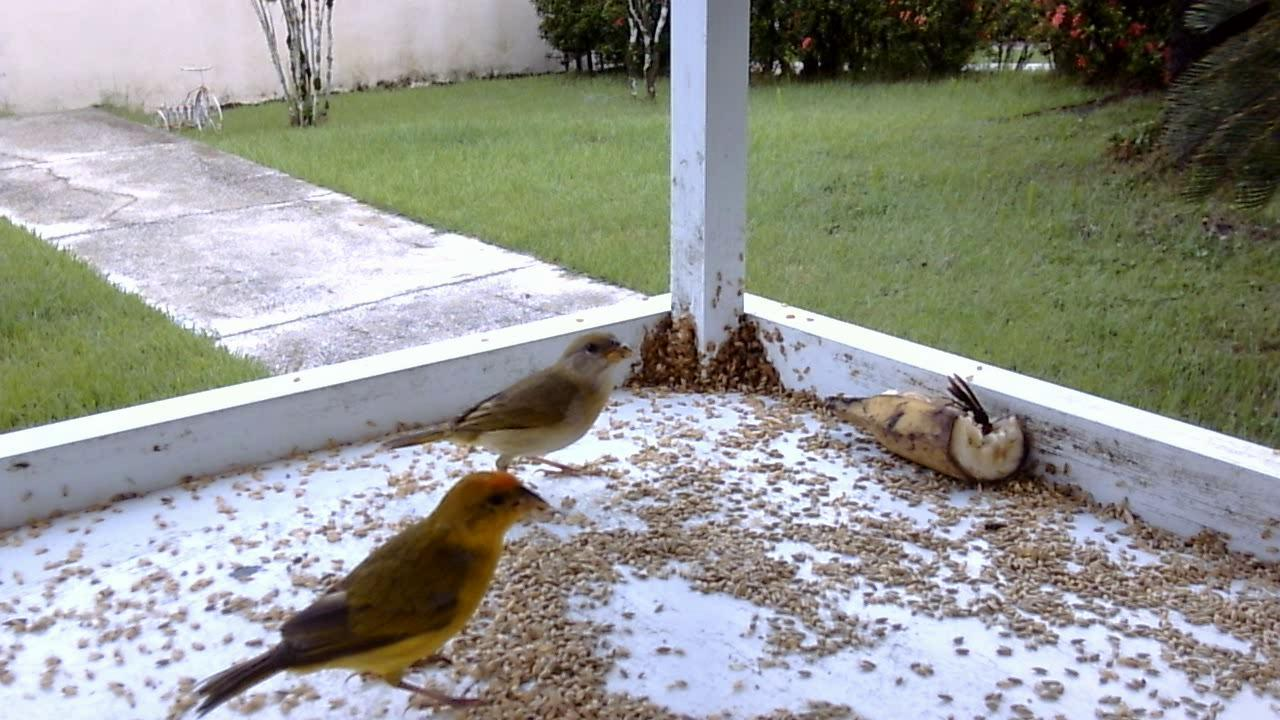canario_do_amazonas: (159, 456, 564, 720), (383, 330, 647, 496)
